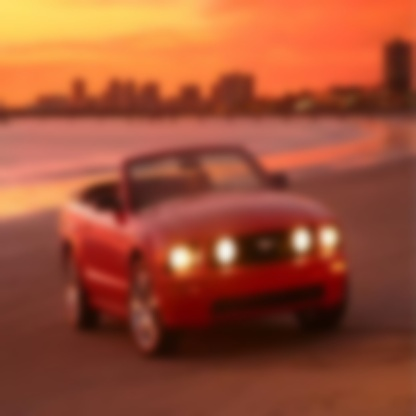Vehicle: (60, 144, 350, 357)
